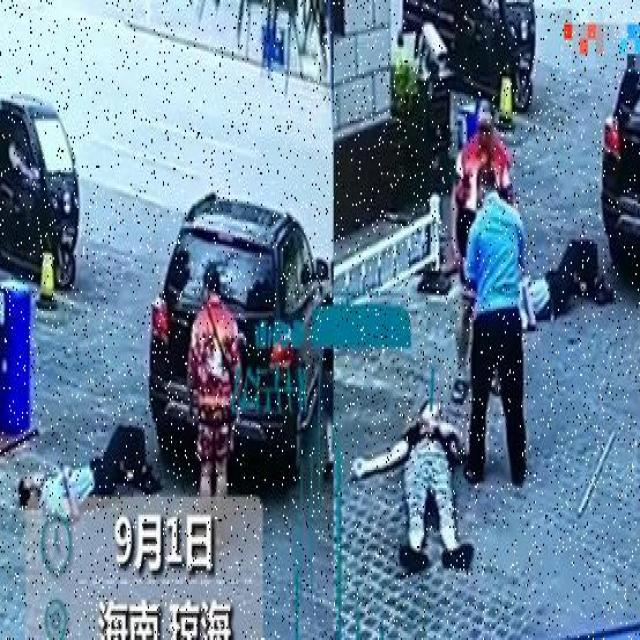fall: (381, 387, 469, 577), (18, 441, 166, 510)
